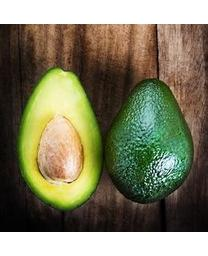avocado: (17, 67, 104, 211), (104, 79, 195, 204)
